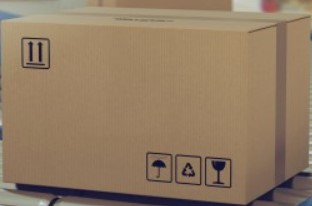stock: (3, 9, 310, 203)
